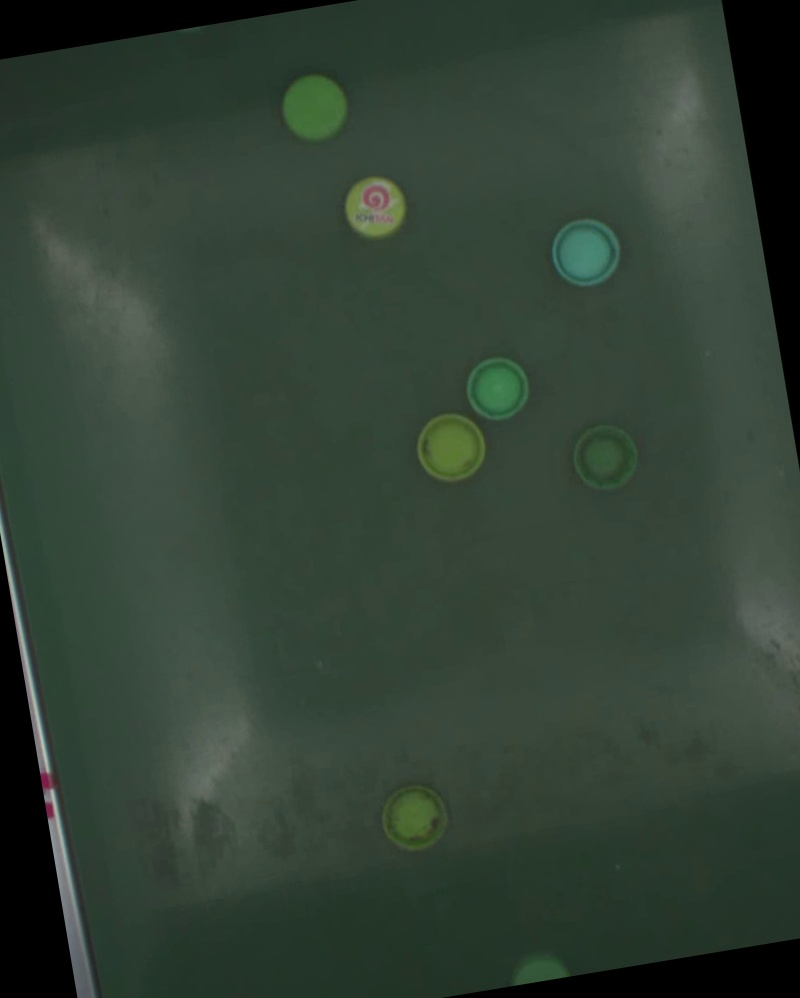Others: (411, 410, 491, 488), (547, 215, 627, 292), (276, 71, 354, 147), (566, 421, 644, 497), (377, 783, 453, 856), (461, 352, 536, 425), (339, 173, 412, 245)
